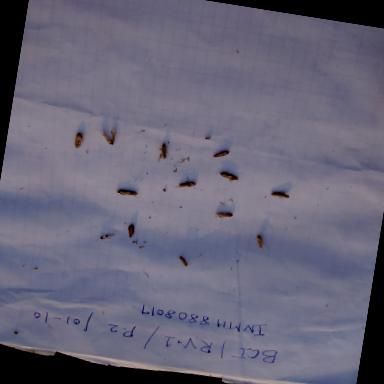pbw: (212, 166, 244, 184), (172, 176, 198, 194), (252, 233, 272, 254), (70, 130, 90, 151), (208, 146, 231, 164), (268, 188, 296, 202), (114, 186, 141, 199), (122, 222, 138, 240), (156, 140, 168, 162), (212, 209, 234, 221), (174, 255, 192, 268)
